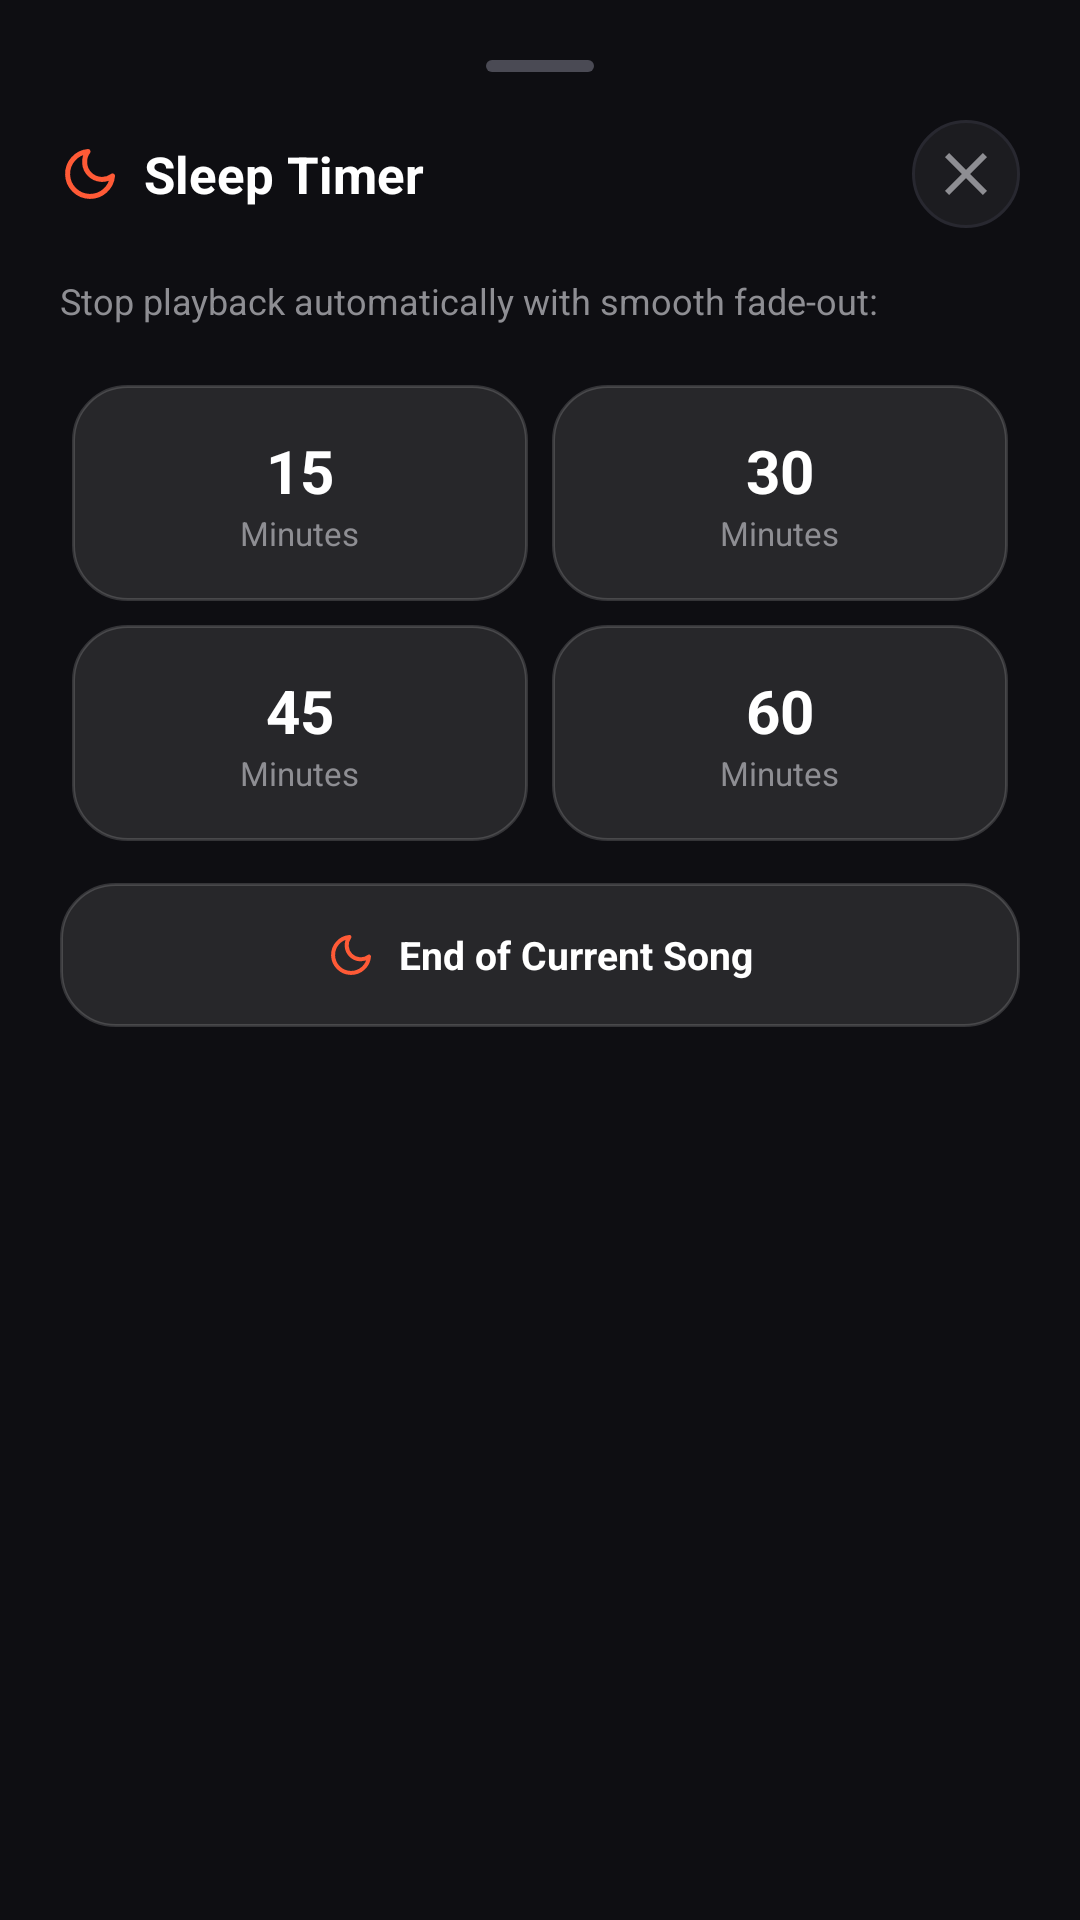

Icons on this 1080 x 1920 Android screen, each with the point to tap as [x,y]:
close: [966,174]
